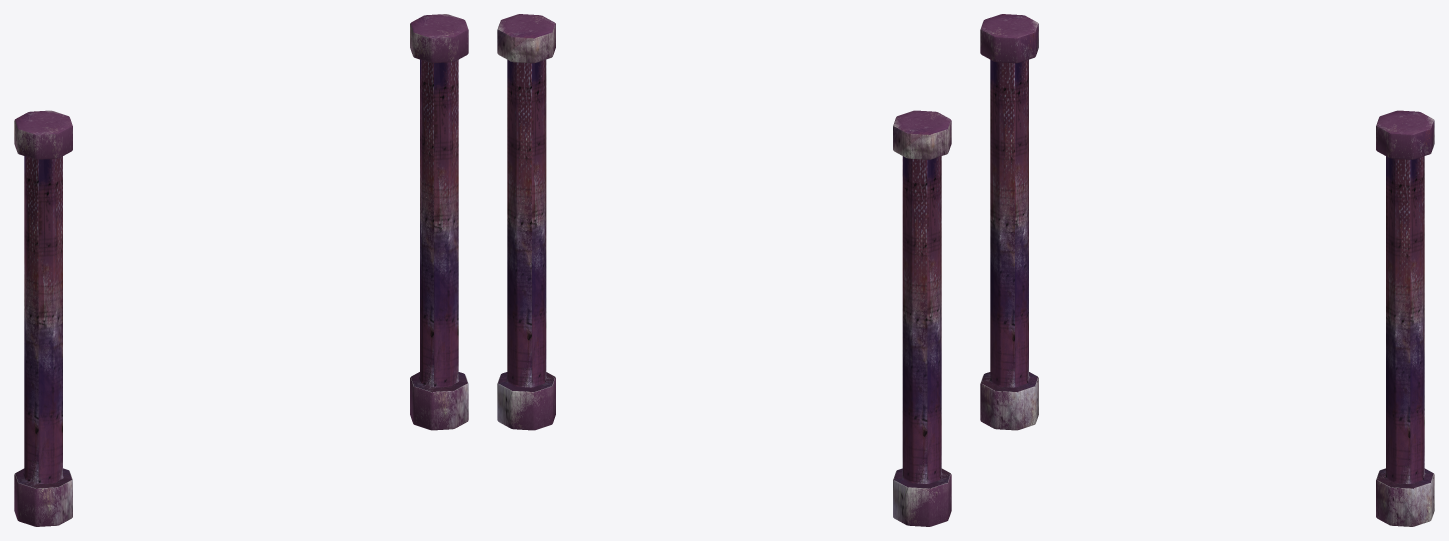
The model's file is MANOR_WINDOW-PILLAR_3_001.obj.
The picture shows the model from 3 angles, left to right: view 1: azimuth 30°, elevation 25°; view 2: azimuth 150°, elevation 25°; view 3: azimuth 330°, elevation 25°; orthographic projection.
Parts seen in each view (by area): view 1: MANOR_WINDOW-PILLAR_3_001; view 2: MANOR_WINDOW-PILLAR_3_001; view 3: MANOR_WINDOW-PILLAR_3_001.
Part boxes in pixels (x1,y1,x2,y2): MANOR_WINDOW-PILLAR_3_001: (14, 14, 468, 526); MANOR_WINDOW-PILLAR_3_001: (497, 14, 951, 526); MANOR_WINDOW-PILLAR_3_001: (980, 14, 1434, 526).
Bounding box in the file's own units: 3.57 × 3 × 0.4135.
